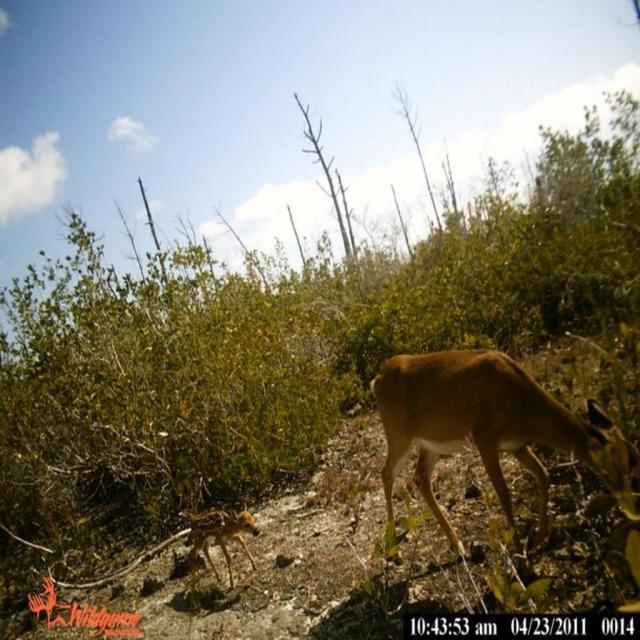Deer: (366, 353, 640, 567), (188, 514, 260, 592)
